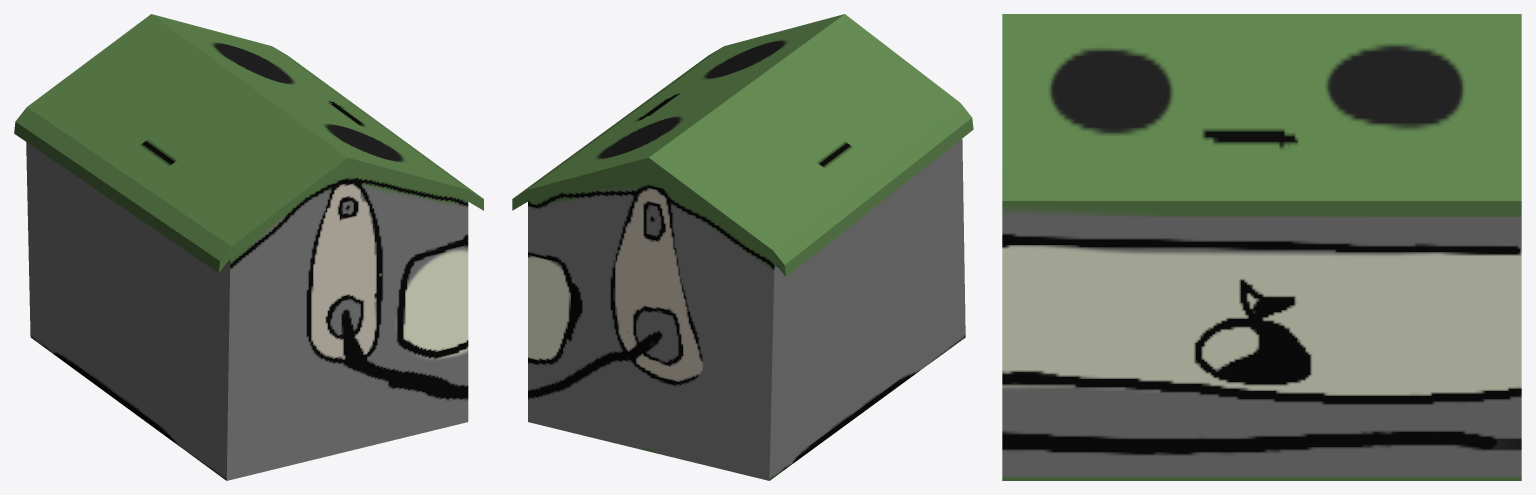
The model's file is SecchioneInd.glb.
3 renders of one model, left to right at view 1: azimuth 30°, elevation 25°; view 2: azimuth 150°, elevation 25°; view 3: azimuth 270°, elevation 25°, orthographic. The views are drawn at different scales.
Visible parts, largest first — view 1: Cube; view 2: Cube; view 3: Cube.
Part boxes in pixels (<box>): Cube: <box>14,14,483,480</box>; Cube: <box>512,14,973,480</box>; Cube: <box>1002,14,1521,480</box>.
Bounding box in the file's own units: 3.23 × 3.31 × 4.01.
Materials: 1 (1 with a texture image).
